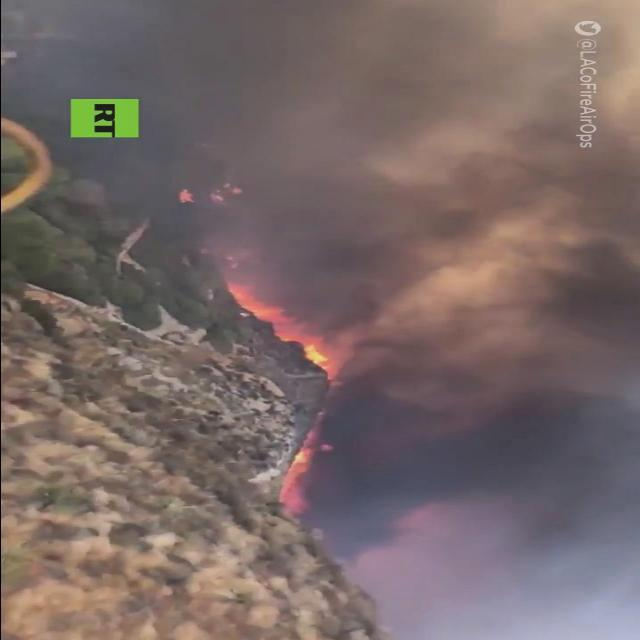Fire: (228, 281, 342, 377), (280, 442, 314, 511), (178, 189, 196, 205)
